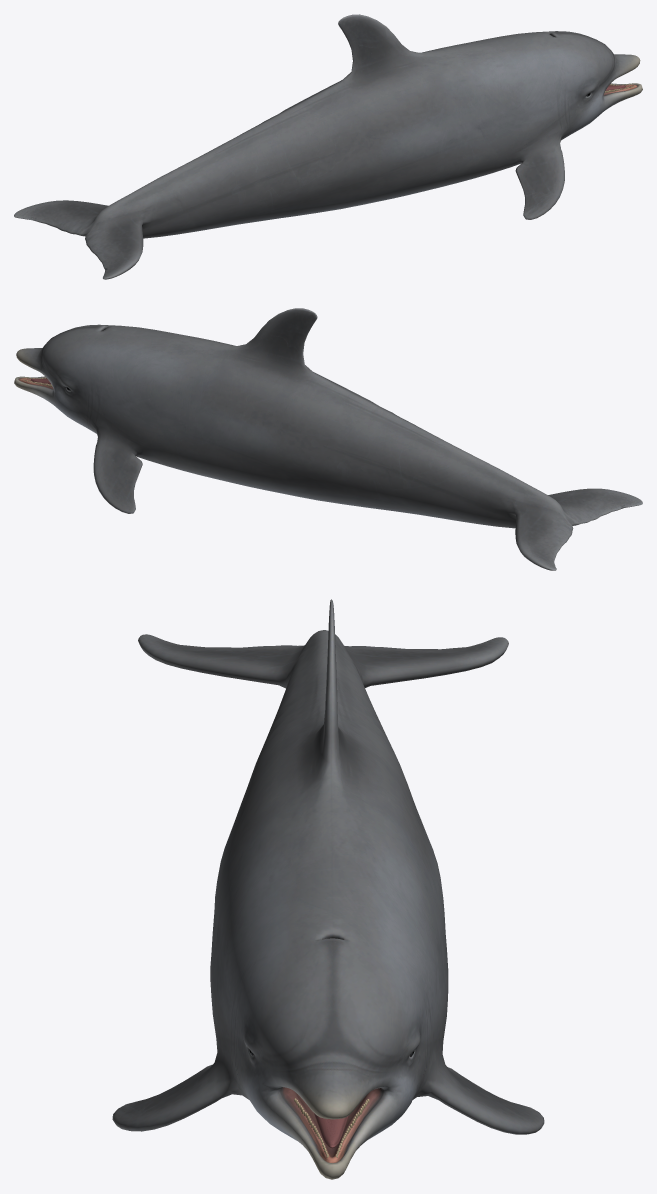
The model's file is delfin.glb.
3 renders of one model, top to bottom at view 1: azimuth 30°, elevation 25°; view 2: azimuth 150°, elevation 25°; view 3: azimuth 270°, elevation 25°, orthographic. The views are drawn at different scales.
Parts seen in each view (by area): view 1: Body; view 2: Body; view 3: Body.
Part boxes in pixels (box(x1,y1,x2,y2)): Body: box(14, 14, 642, 279); Body: box(14, 308, 642, 570); Body: box(112, 599, 544, 1179).
Size of the model in its own units: 29.8 by 9.62 by 9.56.
Materials: 1 (1 with a texture image).
